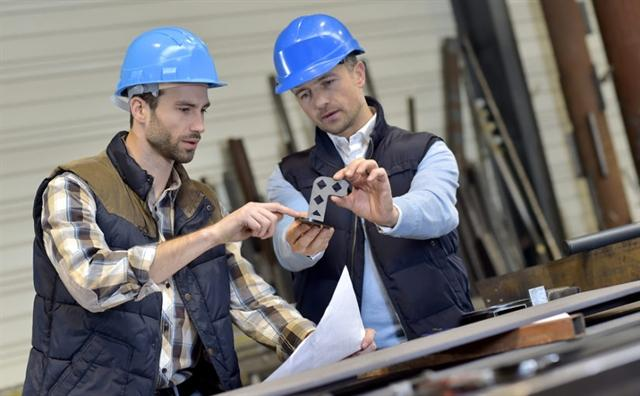helmet: (113, 26, 222, 99), (274, 15, 366, 96)
